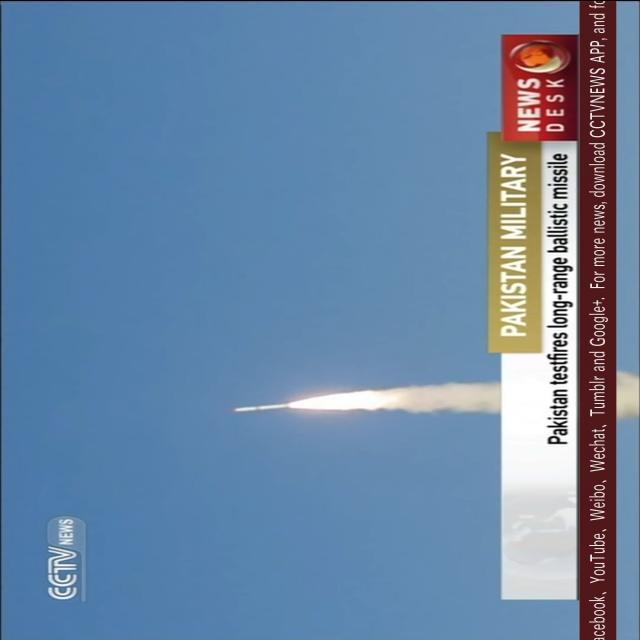missile: (220, 400, 300, 418)
